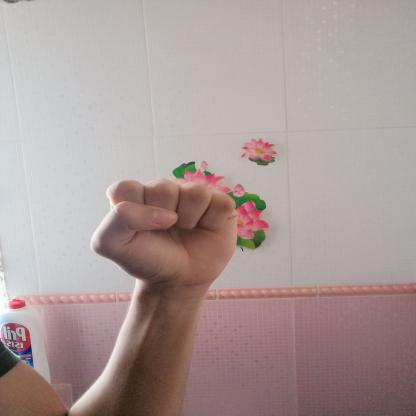SAD: (74, 170, 255, 294)
